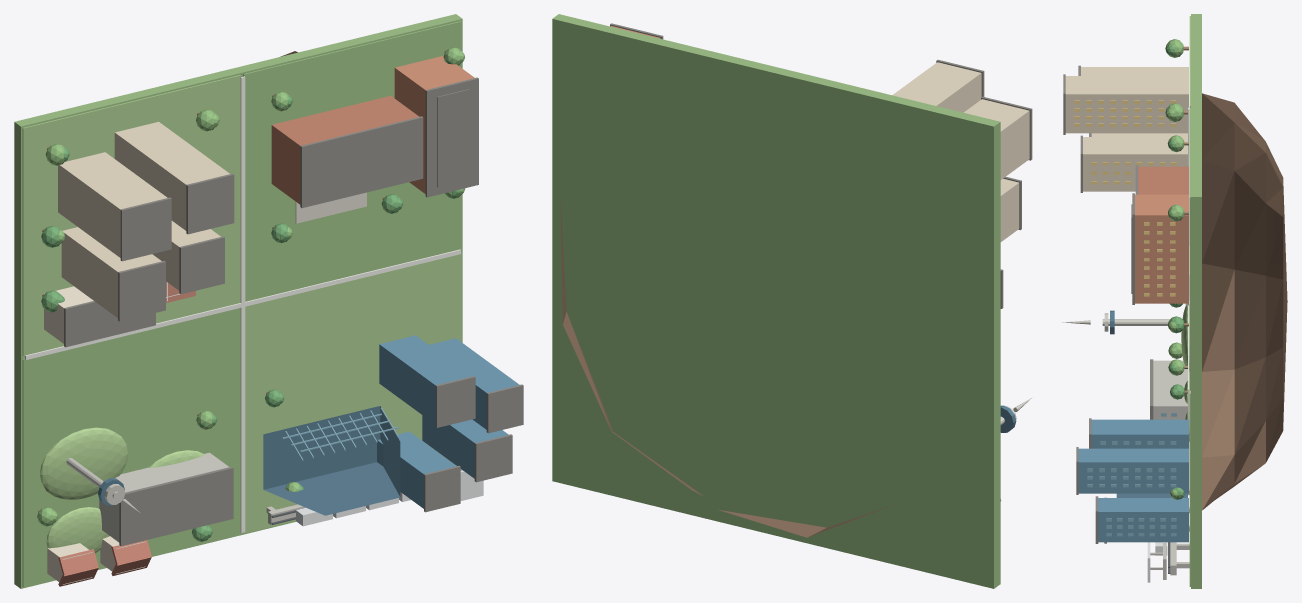
The model's file is MyFloatingCity2.glb.
The picture shows the model from 3 angles, left to right: view 1: azimuth 30°, elevation 25°; view 2: azimuth 150°, elevation 25°; view 3: azimuth 270°, elevation 25°; orthographic projection. The views are drawn at different scales.
Visible parts, largest first — view 1: district_ground_4, district_ground_3, district_ground_5, district_ground_2, signature_ship_building_686, island_top_0, campus_building_roof_324, residential_tower_8, informatik_roof_491, residential_tower_82, campus_building_323, stuttgart_hill_449 (+27 smaller); view 2: island_top_0, residential_tower_82, residential_tower_8, faceted_floating_rock, residential_tower_156; view 3: faceted_floating_rock, residential_tower_82, island_top_0, campus_building_382, cyber_city_tower_554, residential_tower_214, cyber_city_tower_604, cyber_city_tower_510, informatik_building_459, campus_building_323, residential_tower_8, district_ground_3 (+6 smaller).
Part boxes in pixels (bbox=[...]): district_ground_4: bbox=[22, 308, 240, 587]; district_ground_3: bbox=[243, 21, 461, 301]; district_ground_5: bbox=[243, 252, 461, 533]; district_ground_2: bbox=[22, 75, 240, 355]; signature_ship_building_686: bbox=[263, 406, 400, 515]; island_top_0: bbox=[14, 14, 462, 588]; campus_building_roof_324: bbox=[300, 116, 423, 208]; residential_tower_8: bbox=[58, 152, 167, 257]; informatik_roof_491: bbox=[119, 467, 233, 546]; residential_tower_82: bbox=[114, 121, 229, 230]; campus_building_323: bbox=[271, 96, 419, 204]; stuttgart_hill_449: bbox=[40, 427, 128, 499]; island_top_0: bbox=[552, 14, 1000, 588]; residential_tower_82: bbox=[892, 62, 981, 112]; residential_tower_8: bbox=[964, 99, 1029, 179]; faceted_floating_rock: bbox=[560, 196, 892, 537]; residential_tower_156: bbox=[1000, 178, 1019, 241]; faceted_floating_rock: bbox=[1202, 93, 1287, 510]; residential_tower_82: bbox=[1065, 76, 1188, 133]; island_top_0: bbox=[1191, 14, 1201, 588]; campus_building_382: bbox=[1135, 194, 1188, 303]; cyber_city_tower_554: bbox=[1078, 448, 1188, 493]; residential_tower_214: bbox=[1083, 137, 1187, 191]; cyber_city_tower_604: bbox=[1098, 498, 1188, 542]; cyber_city_tower_510: bbox=[1091, 419, 1188, 448]; informatik_building_459: bbox=[1153, 360, 1187, 419]; campus_building_323: bbox=[1138, 166, 1188, 194]; residential_tower_8: bbox=[1081, 67, 1188, 75]; district_ground_3: bbox=[1189, 107, 1190, 390].
Bounding box in the file's own units: 20 × 20.1 × 10.45.
